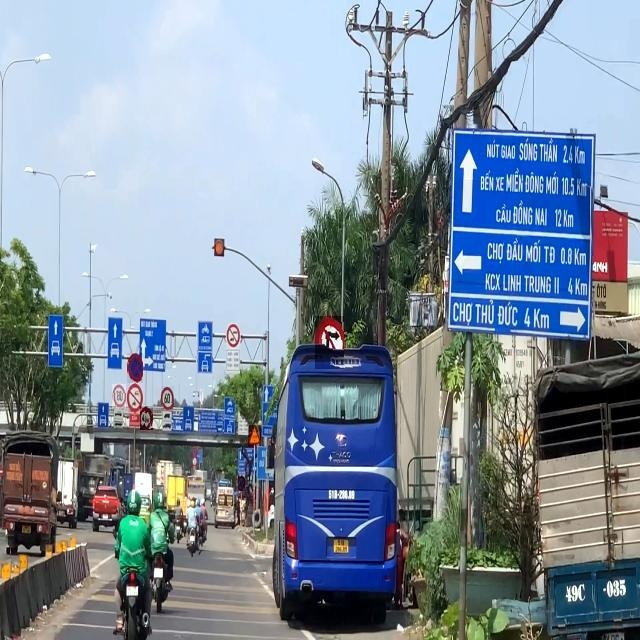bien_cam: (315, 316, 344, 369), (127, 353, 143, 383), (112, 384, 126, 408), (161, 386, 174, 411), (140, 406, 153, 430), (248, 425, 261, 446), (238, 476, 245, 491)
